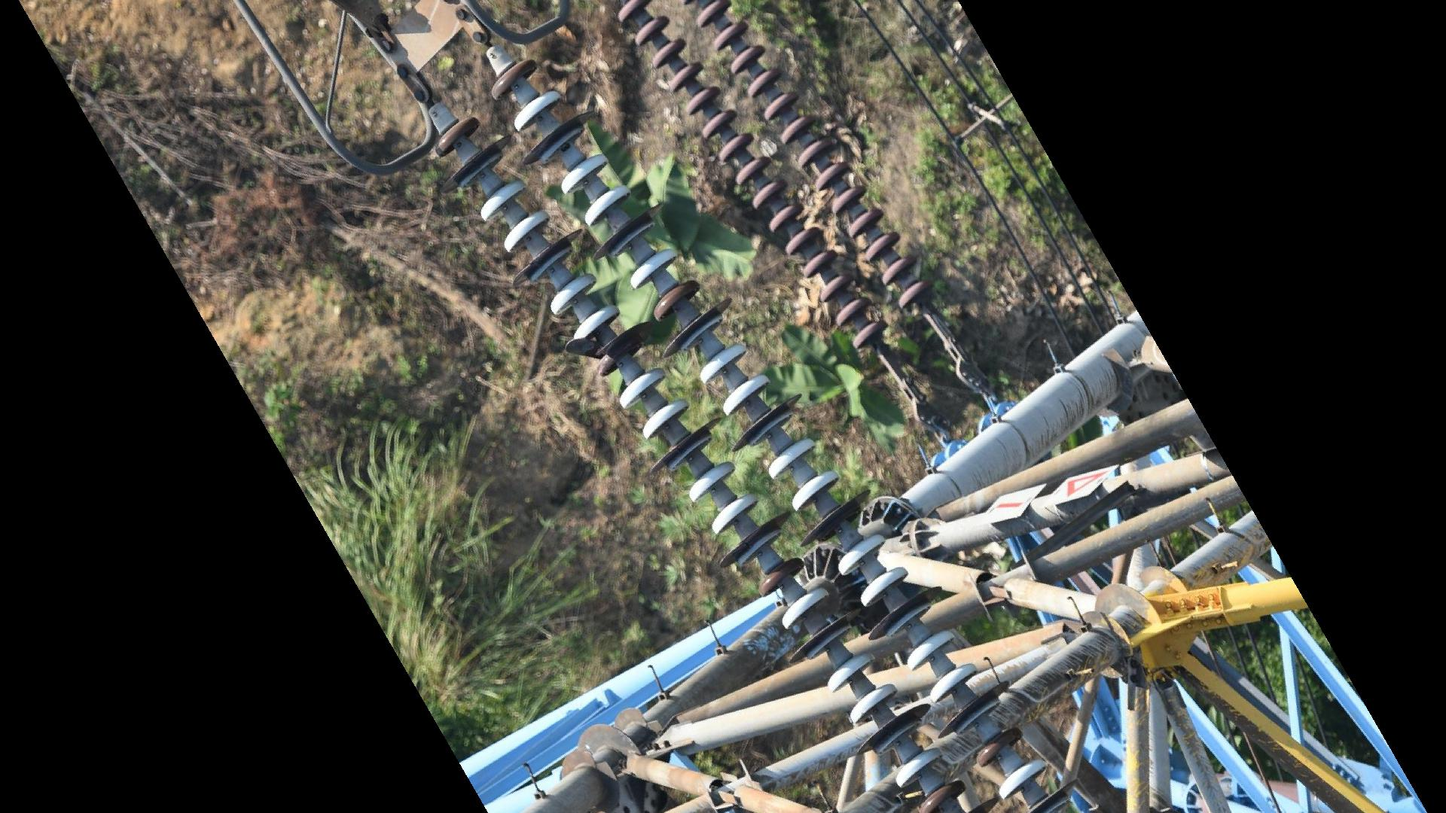insulator: (433, 50, 1054, 813), (610, 1, 941, 356)
